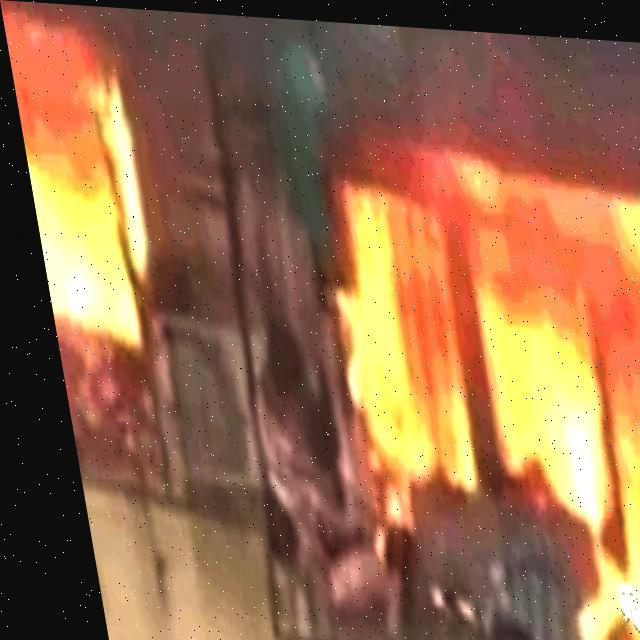Fire: (298, 116, 639, 639)
